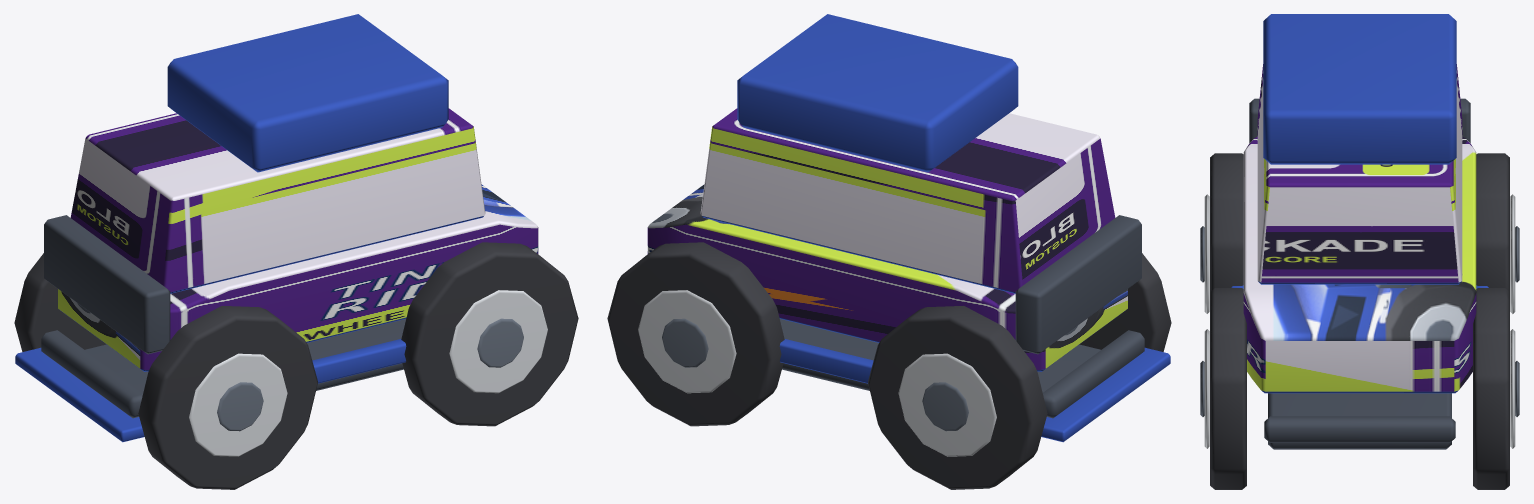
3 renders of one model, left to right at view 1: azimuth 30°, elevation 25°; view 2: azimuth 150°, elevation 25°; view 3: azimuth 270°, elevation 25°, orthographic. The views are drawn at different scales.
Parts seen in each view (by area): view 1: BW-02_cabin, armored roof canopy, BW-02_connected_shell, Tire, Tire.002, armored face guard, Rim, Rim.002, custom chin, underbody, Tire.001, front bumper (+3 smaller); view 2: BW-02_cabin, armored roof canopy, BW-02_connected_shell, Tire.001, Tire.003, armored face guard, Rim.001, Rim.003, custom chin, underbody, Tire, front bumper (+3 smaller); view 3: armored roof canopy, BW-02_connected_shell, BW-02_cabin, Tire.002, Tire.003, underbody, rear bumper, Tire, Tire.001, armored face guard, Rim.002, Rim.003 (+2 smaller).
Part boxes in pixels (x1,y1,x2,y2): BW-02_cabin: [70, 108, 485, 293]; armored roof canopy: [167, 14, 448, 172]; BW-02_connected_shell: [58, 184, 538, 371]; Tire: [138, 306, 317, 489]; Tire.002: [401, 242, 578, 426]; armored face guard: [44, 215, 170, 354]; Rim: [189, 353, 287, 456]; Rim.002: [449, 290, 547, 393]; custom chin: [15, 347, 144, 442]; underbody: [85, 319, 405, 392]; Tire.001: [14, 253, 106, 351]; front bumper: [41, 330, 143, 418]; BW-02_cabin: [700, 108, 1115, 293]; armored roof canopy: [737, 14, 1018, 172]; BW-02_connected_shell: [647, 184, 1127, 371]; Tire.001: [868, 306, 1047, 489]; Tire.003: [607, 242, 784, 426]; armored face guard: [1015, 215, 1141, 354]; Rim.001: [898, 353, 996, 456]; Rim.003: [638, 290, 736, 393]; custom chin: [1041, 347, 1170, 442]; underbody: [780, 319, 1100, 392]; Tire: [1079, 253, 1171, 351]; front bumper: [1042, 330, 1144, 418]; armored roof canopy: [1263, 14, 1456, 164]; BW-02_connected_shell: [1243, 136, 1476, 393]; BW-02_cabin: [1257, 64, 1462, 284]; Tire.002: [1210, 288, 1246, 489]; Tire.003: [1473, 288, 1509, 489]; underbody: [1268, 393, 1451, 449]; rear bumper: [1264, 416, 1455, 442]; Tire: [1210, 153, 1243, 291]; Tire.001: [1476, 153, 1509, 291]; armored face guard: [1249, 98, 1470, 142]; Rim.002: [1204, 329, 1209, 448]; Rim.003: [1510, 329, 1515, 448].
Bounding box in the file's own units: 381 × 279 × 225.
